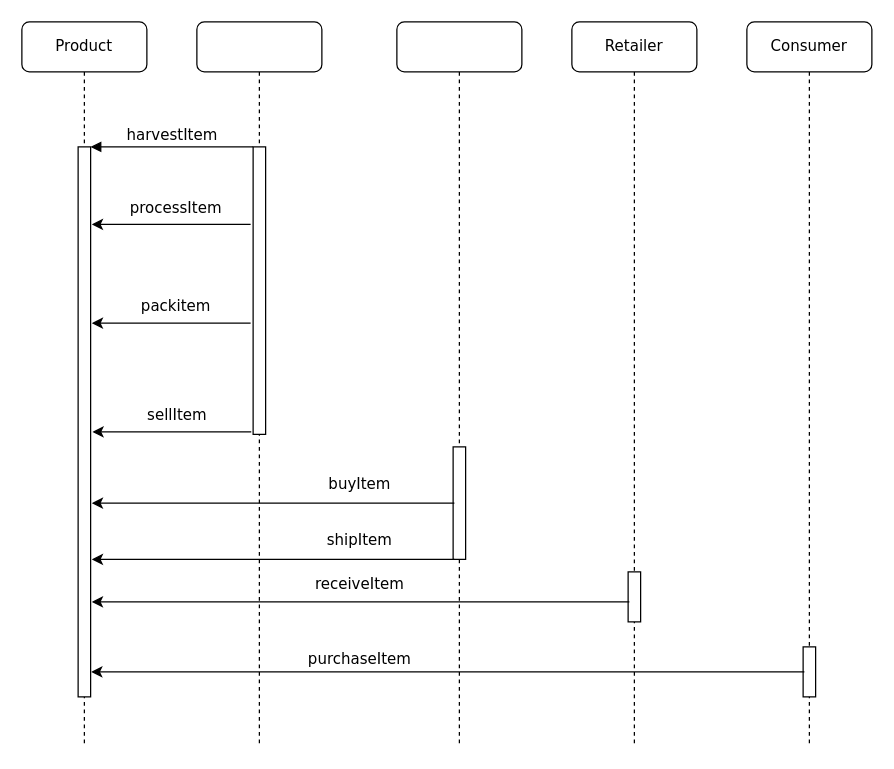
Image size: 894x769. Some labels were removed from this diagram. The shapes that lost their labels are listed below. From the top down, each one's box as (x1, y1, x2, y2) in pixels, then its label:
(196, 21, 322, 747): Farmer
(396, 21, 522, 747): Distributor
